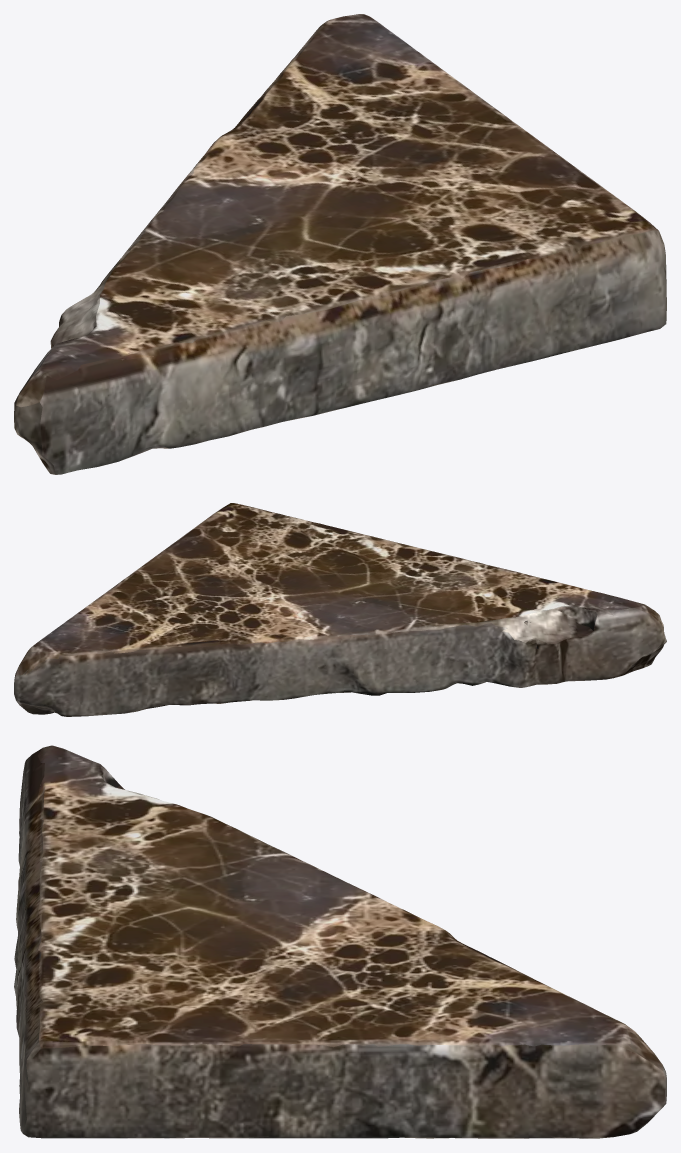
File: remnant-f.glb
3 views of the same model, one above another, from view 1: azimuth 30°, elevation 25°; view 2: azimuth 150°, elevation 25°; view 3: azimuth 270°, elevation 25° (orthographic). The views are drawn at different scales.
Visible parts, largest first — view 1: geometry_0; view 2: geometry_0; view 3: geometry_0.
Part boxes in pixels (x1,y1,x2,y2): geometry_0: [14, 14, 666, 474]; geometry_0: [14, 503, 666, 716]; geometry_0: [14, 745, 666, 1138].
Bounding box in the file's own units: 0.6 × 0.0859 × 0.5272.
1 material, 1 textured.
